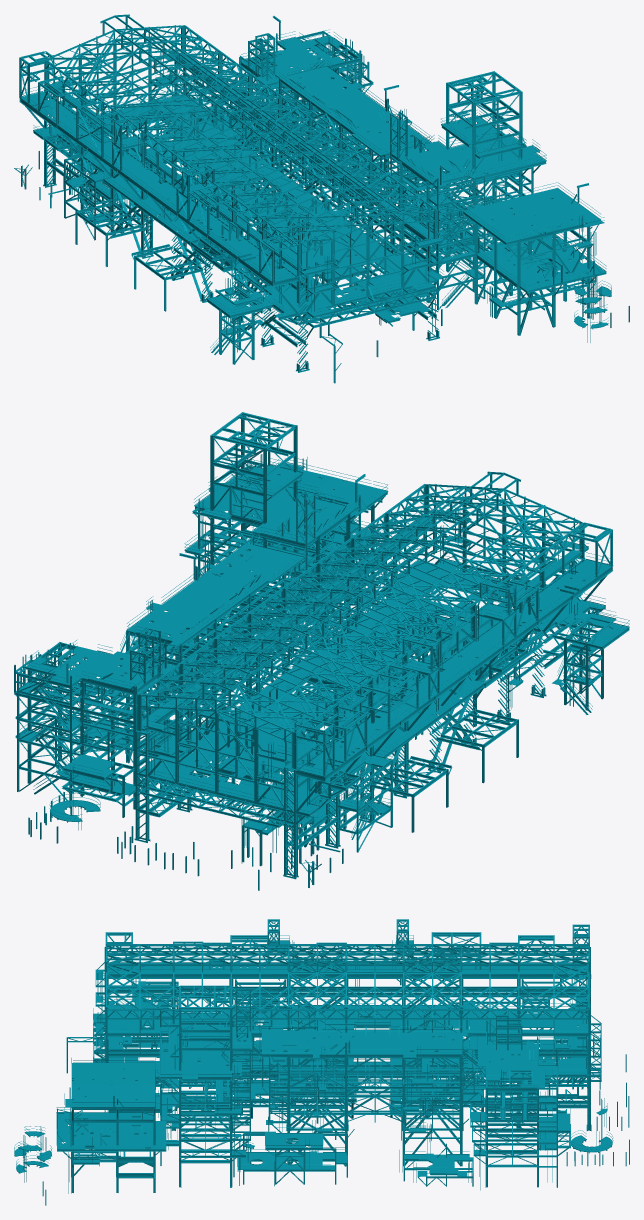
3 renders of one model, top to bottom at view 1: azimuth 30°, elevation 25°; view 2: azimuth 150°, elevation 25°; view 3: azimuth 270°, elevation 25°, orthographic. The views are drawn at different scales.
Size of the model in its own units: 61.09 by 31.43 by 96.38.
